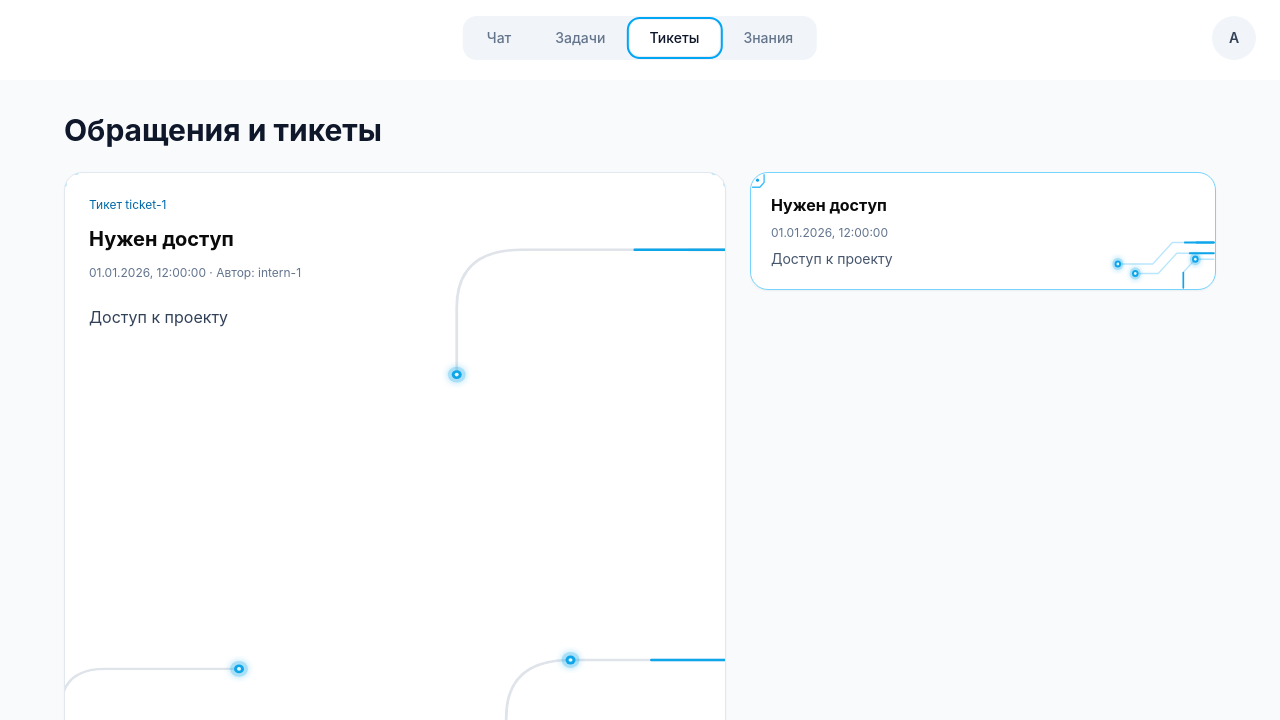
it: navigates all sections and logs out through the profile menu
The width and height of the screenshot is (1280, 720).
Earlier steps of the test are not shown.
Expected: the heading "Нужен доступ" below "ticket-1" is shown, x1=89 y1=227 x2=234 y2=251
Click the link "Задачи". click: coordinates (580, 38)
box: x1=555 y1=29 x2=605 y2=46
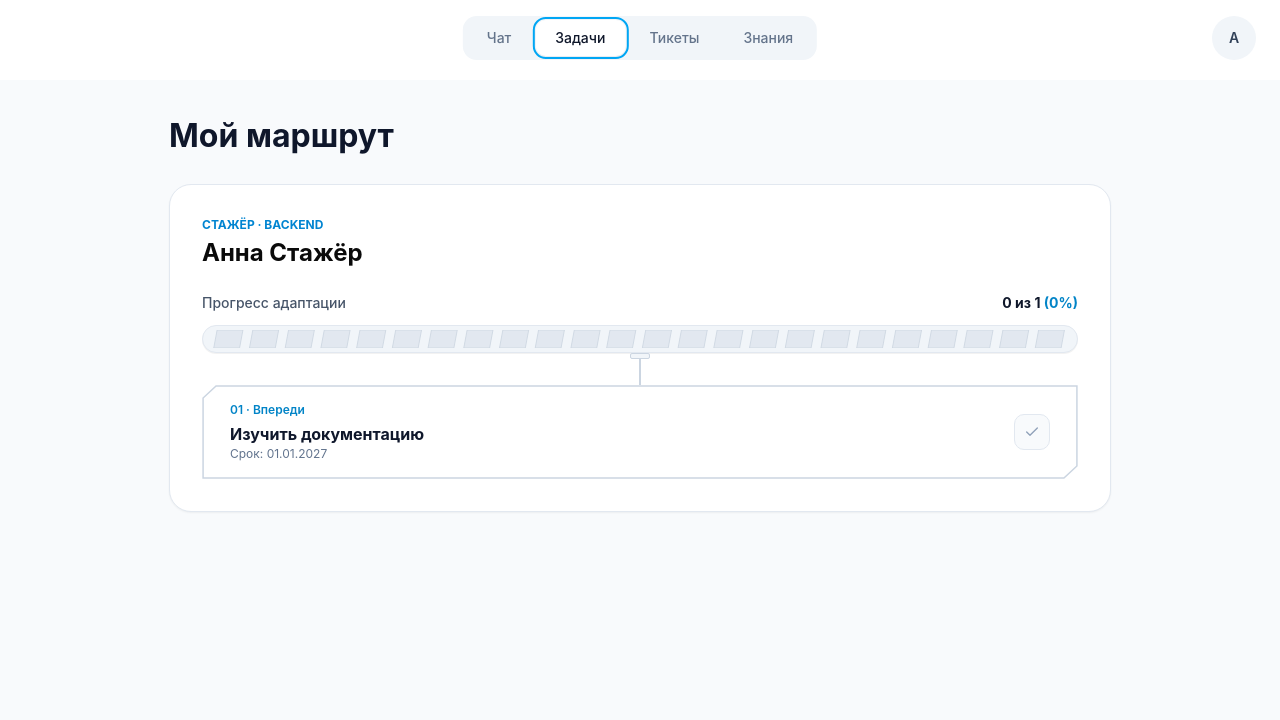
Result: the heading "Мой маршрут" is shown at x1=169 y1=116 x2=394 y2=155
Click the link "Чат". click: coordinates (499, 38)
box: x1=487 y1=29 x2=511 y2=46
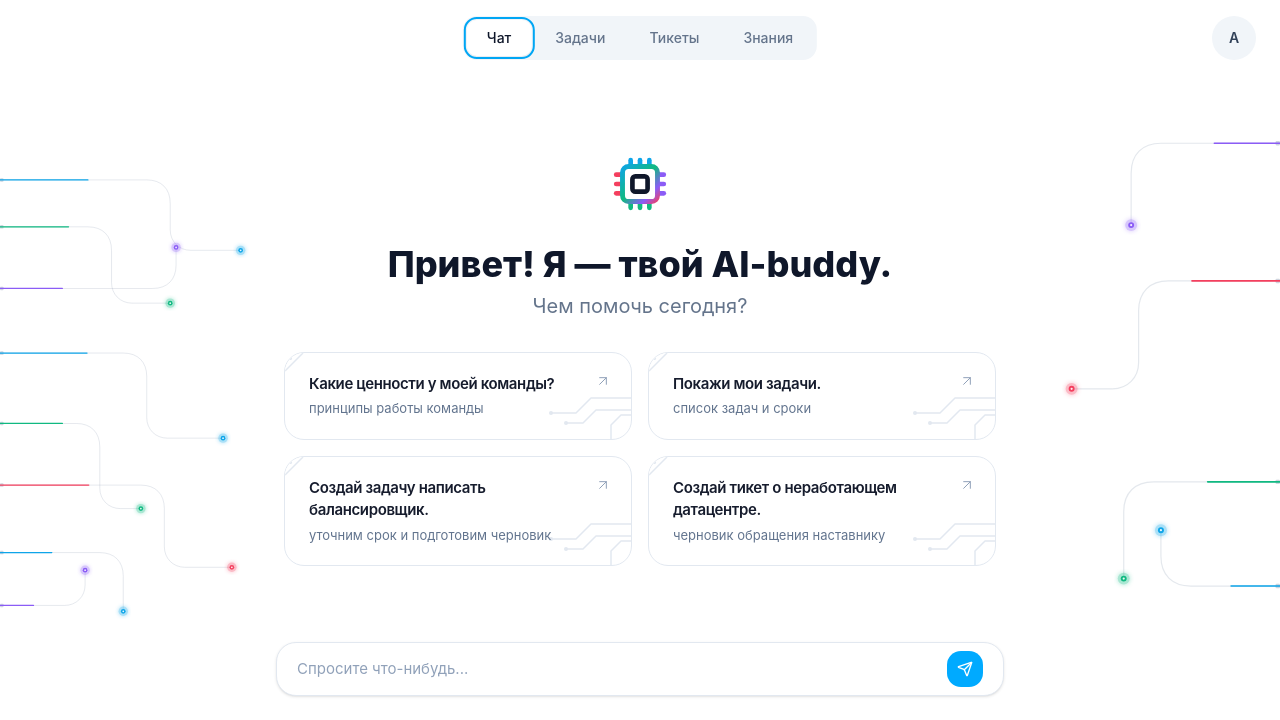
Result: the heading "Привет! Я — твой AI-buddy." is shown at x1=388 y1=244 x2=892 y2=284
Click the button "А". click: coordinates (1234, 38)
box: x1=1212 y1=16 x2=1256 y2=60
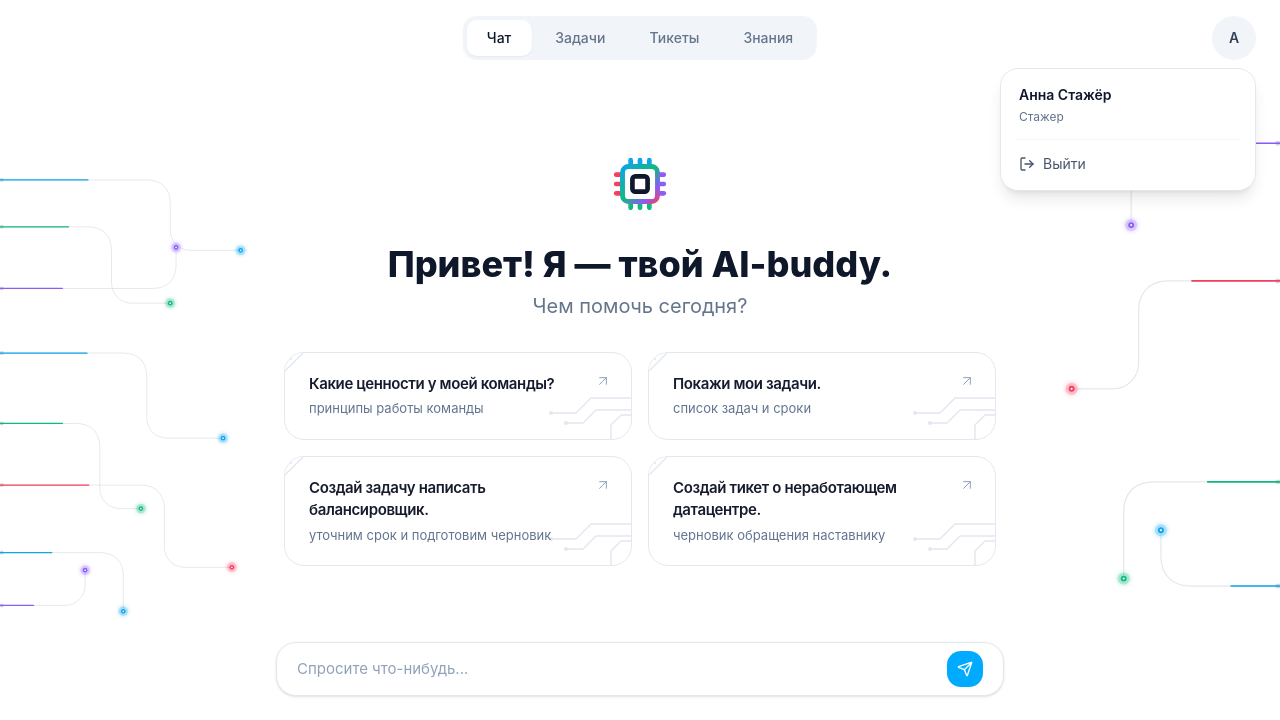
Result: the menu is shown at x1=1000 y1=68 x2=1256 y2=191
Press Escape
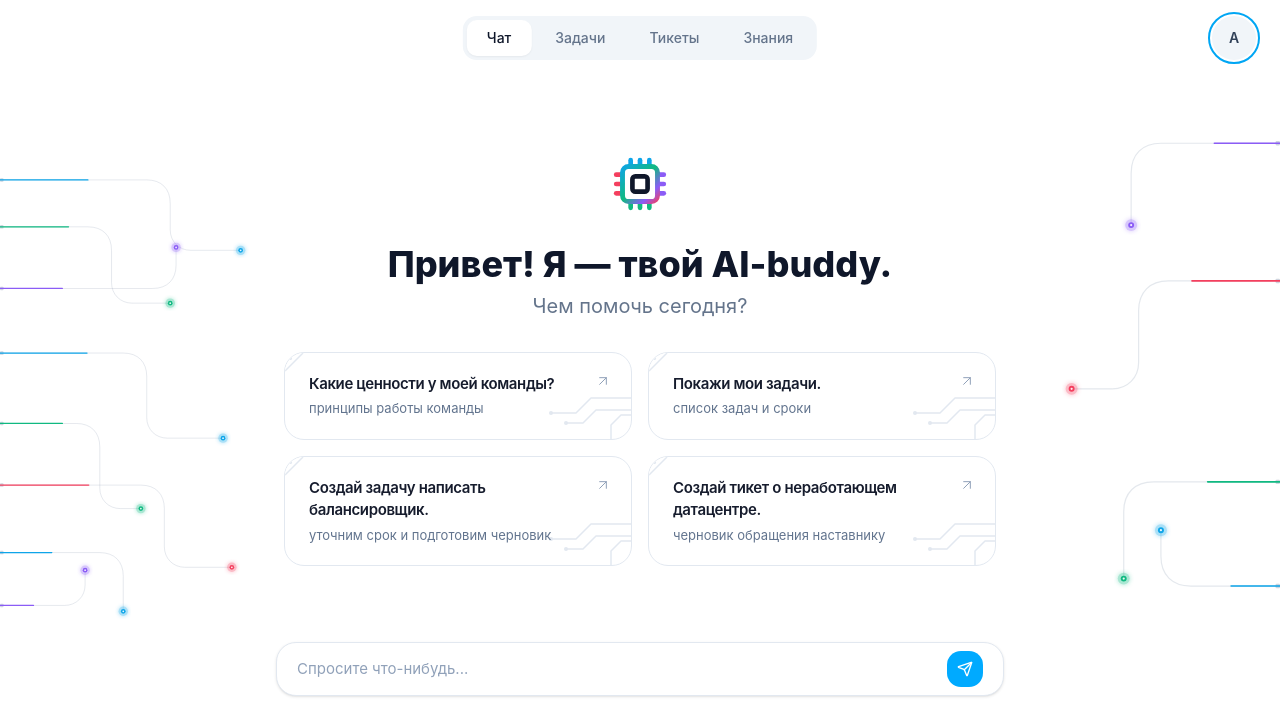
Result: the menu is gone
Click the button "А". click: coordinates (1234, 38)
box: x1=1212 y1=16 x2=1256 y2=60
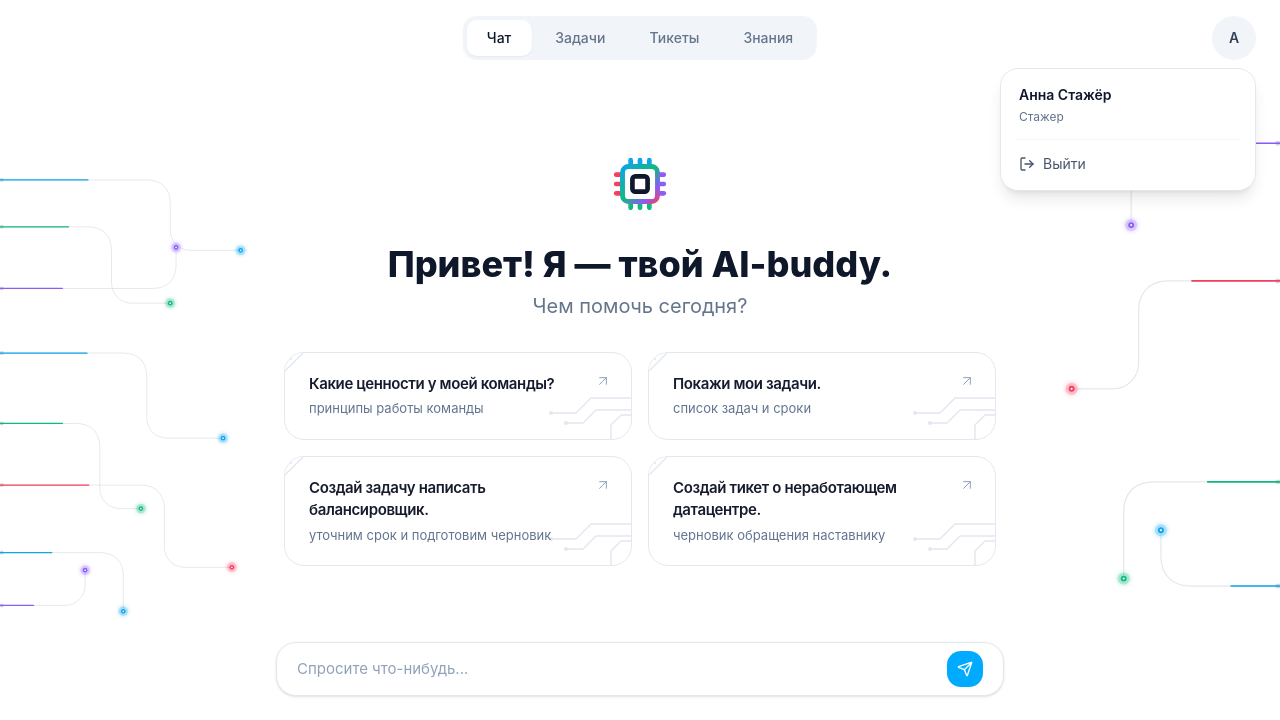
Click the menu item "Выйти". click: coordinates (1052, 164)
box: x1=1019 y1=155 x2=1086 y2=172
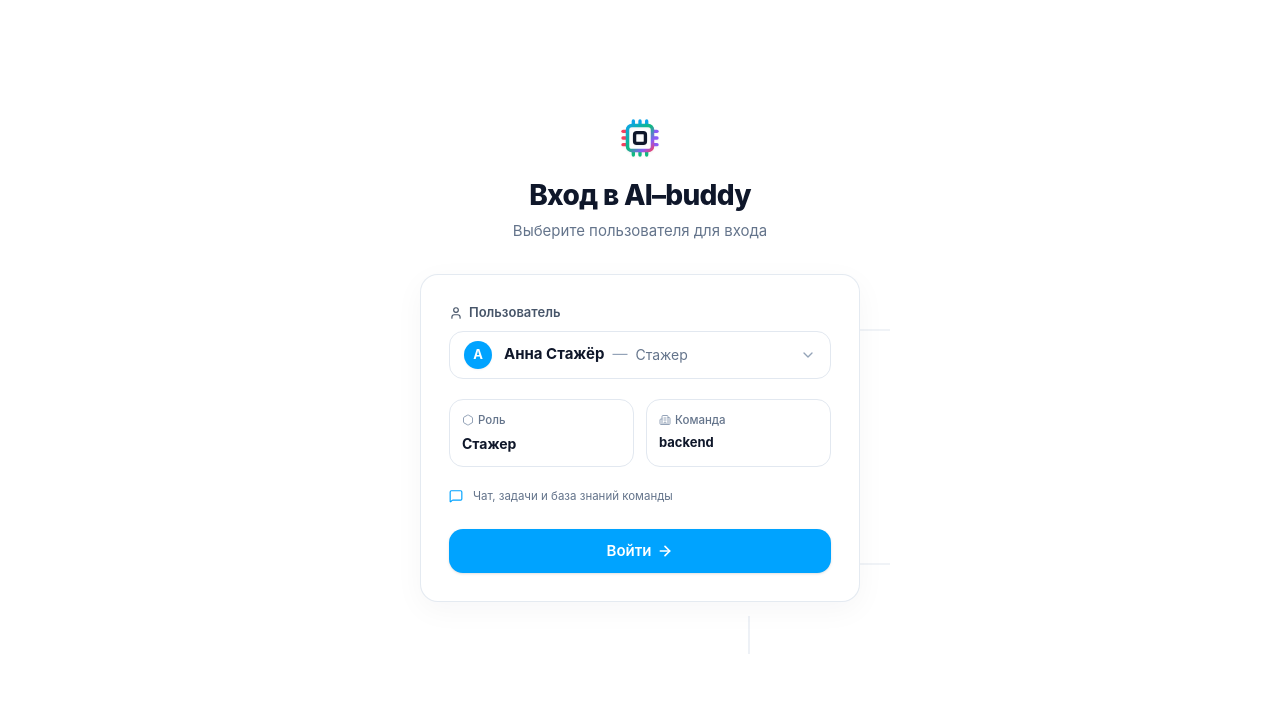
Result: the heading "Вход в AI–buddy" is shown at x1=529 y1=174 x2=751 y2=216
